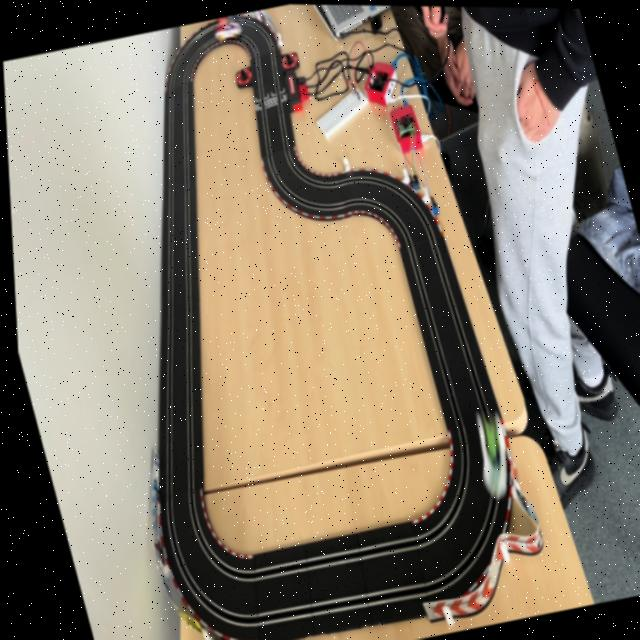mario: (209, 17, 244, 42)
yoshi: (462, 402, 513, 496)
